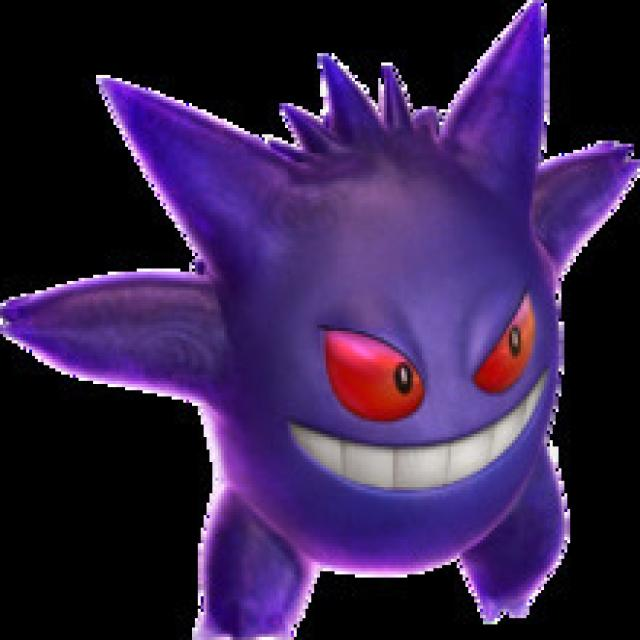Gengar: (157, 55, 601, 624)
